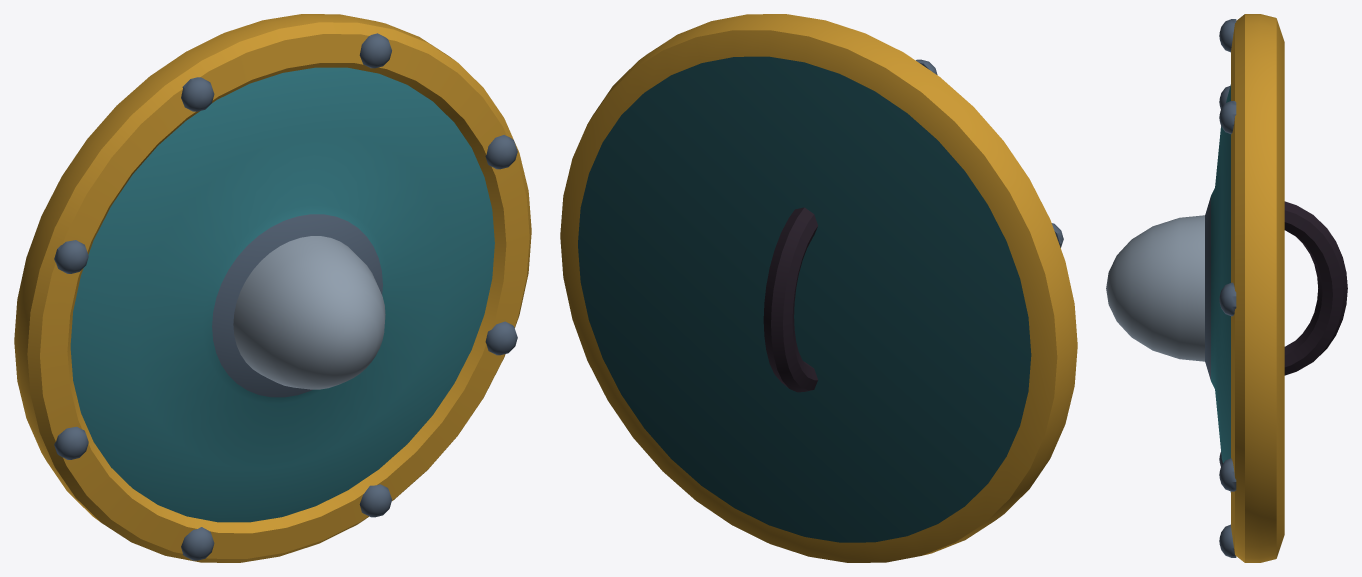
Rendered from RoundShield_16.glb.
3 views of the same model, side by side, from view 1: azimuth 30°, elevation 25°; view 2: azimuth 150°, elevation 25°; view 3: azimuth 270°, elevation 25° (orthographic). The views are drawn at different scales.
Visible parts, largest first — view 1: RoundShield_16; view 2: RoundShield_16; view 3: RoundShield_16.
Boxes of the visible parts, x1,y1,x2,y2 form: RoundShield_16: (14,14,531,562); RoundShield_16: (560,14,1077,562); RoundShield_16: (1106,14,1347,562).
Bounding box in the file's own units: 2.77 × 2.77 × 1.22.
